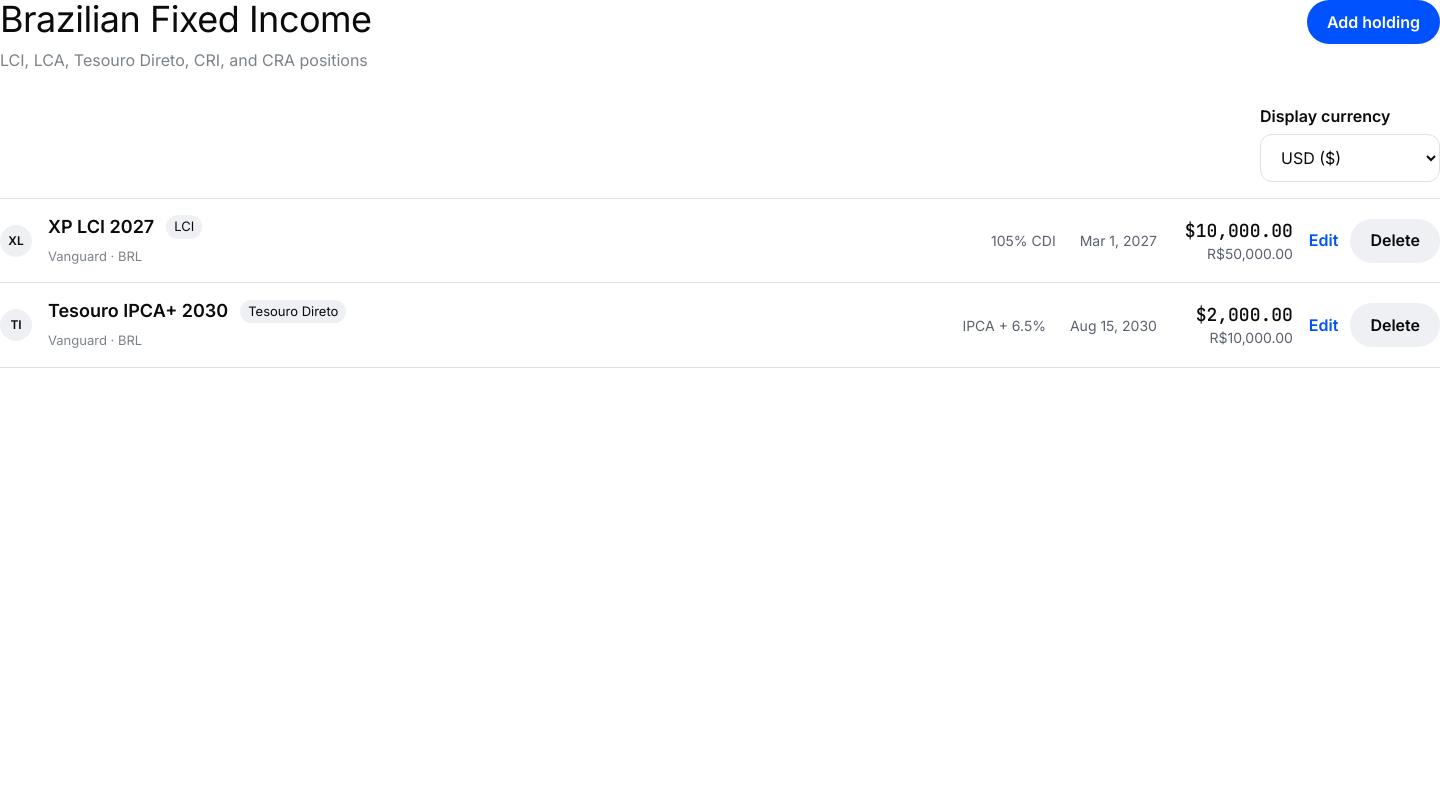
BrFiHoldings › opens delete confirm dialog when Delete is clicked
Step 1. Click the button "Delete" in the row of "R$50,000.00" → (1395, 241), box x1=1350 y1=219 x2=1439 y2=263
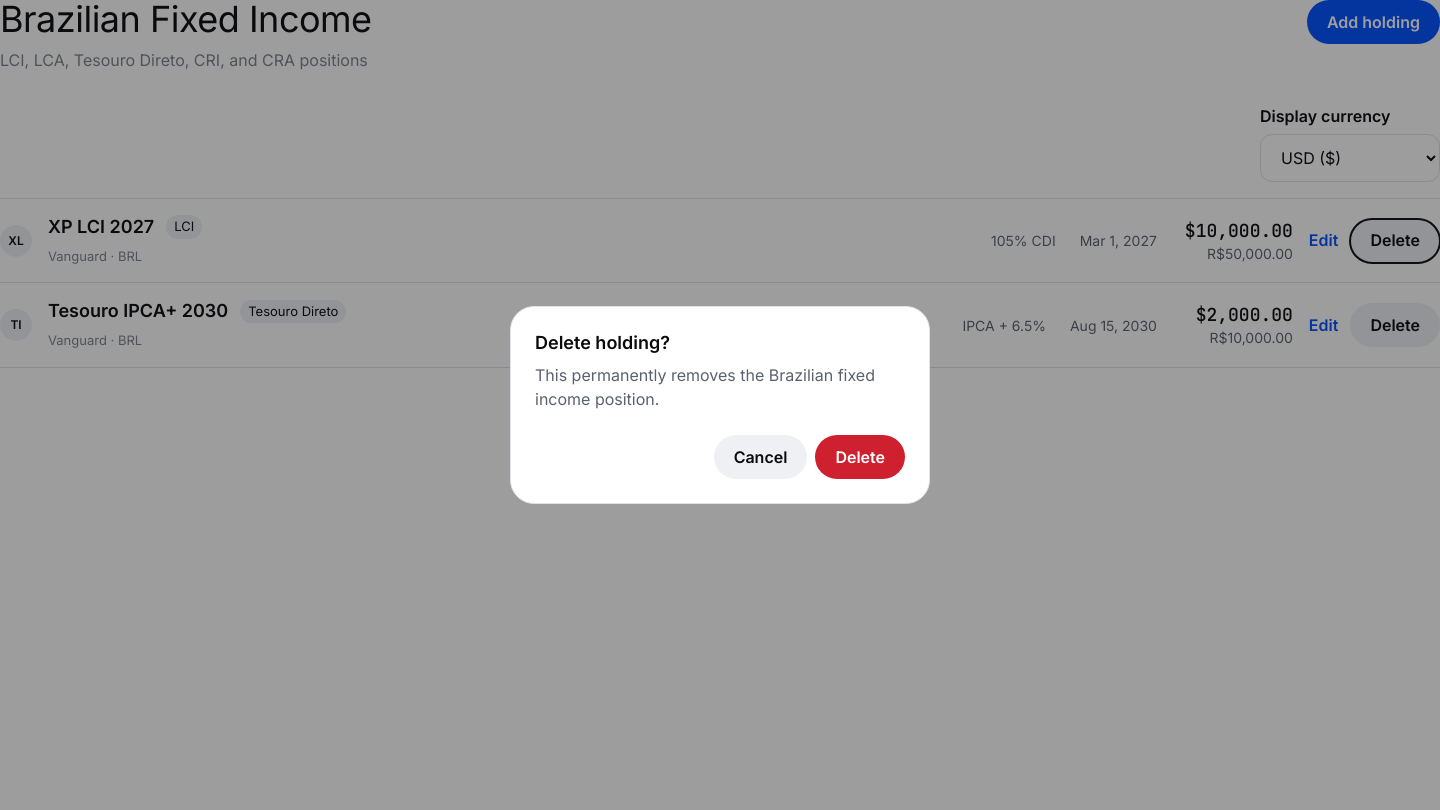
Expected: the dialog "Delete holding?" is shown, x1=510 y1=306 x2=930 y2=504
